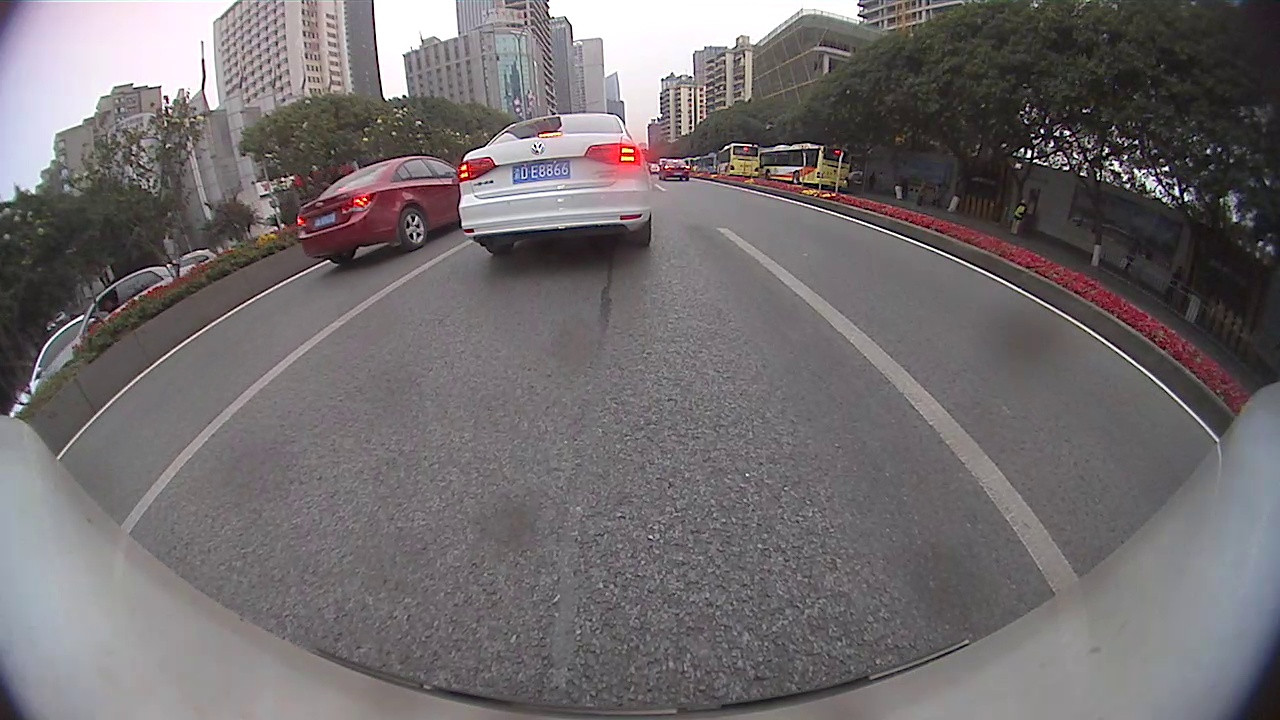bus: (761, 143, 856, 188), (709, 142, 759, 179)
car: (458, 111, 655, 254), (297, 153, 461, 266), (41, 265, 177, 389), (10, 315, 93, 419), (169, 249, 218, 279), (659, 153, 695, 183)
rear: (401, 210, 429, 251)
